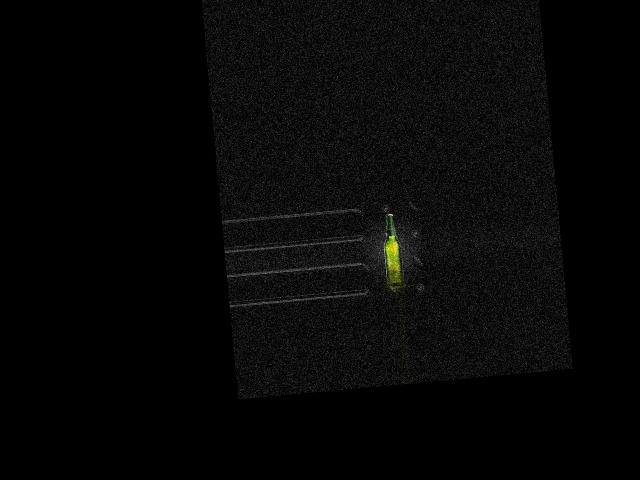beer: (380, 212, 403, 286)
